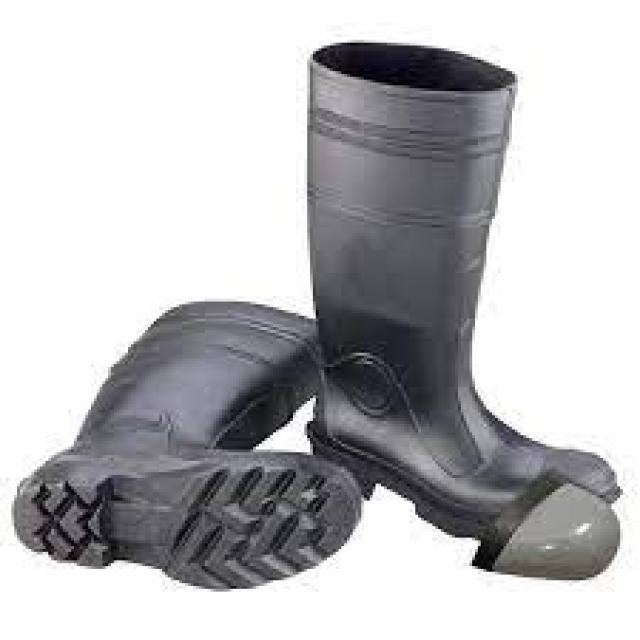shoes: (14, 42, 620, 588)
